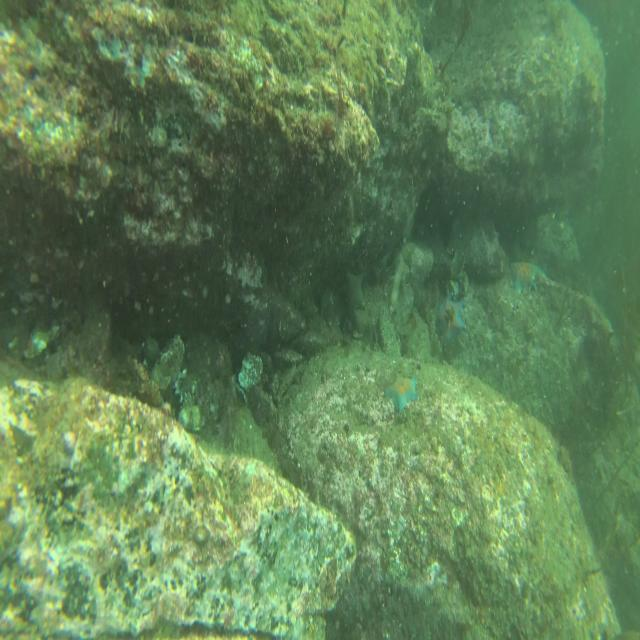starfish: (433, 295, 467, 344), (385, 369, 421, 414), (505, 256, 545, 296)
